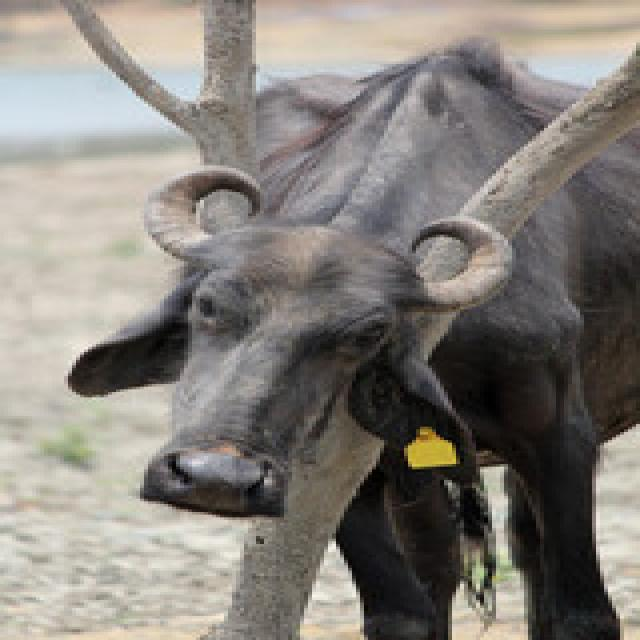Buffalo: (56, 3, 636, 637)
